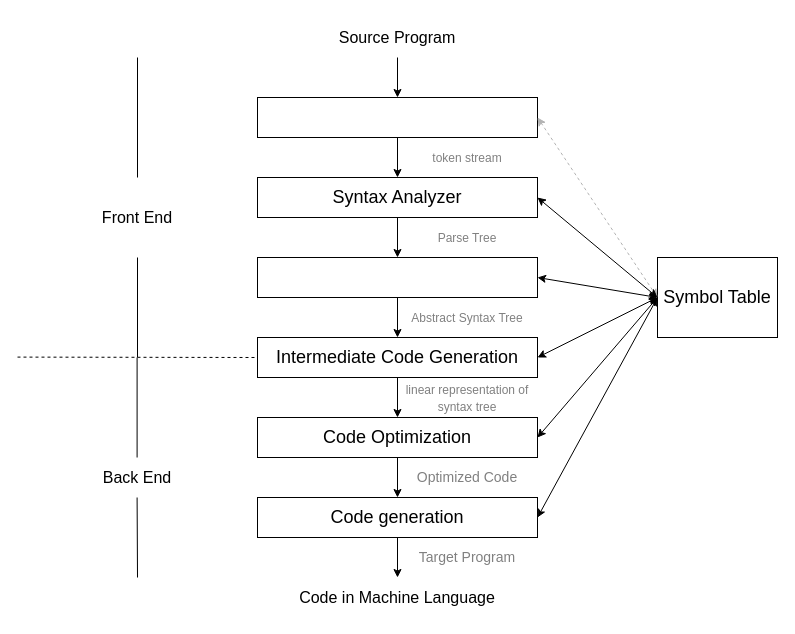
This 795x634 diagram has some shape labels left out. Here are the shapes that lost their labels. From the top down, the centre of each, then its label:
At (397,117): "Lexical Analyzer".
At (397,277): "Semantic Analyzer".
